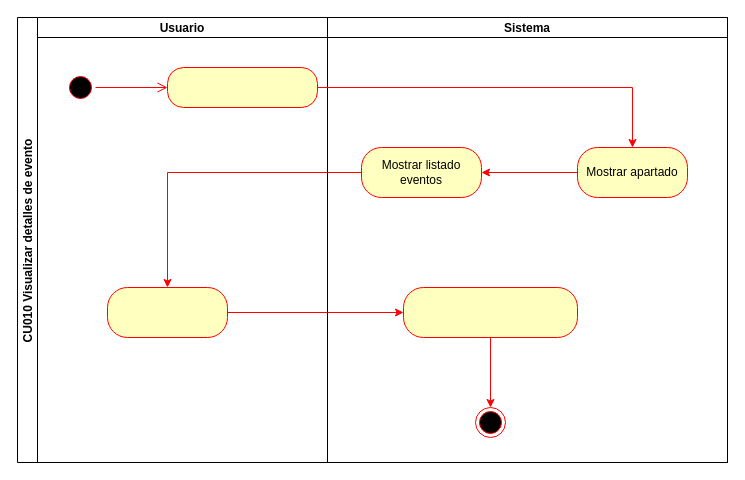
This 745x480 diagram has some shape labels left out. Each missing label, with the centre of its shape:
Pulsa el apartado "Eventos": [242,87]
Pulsar botón "ver evento": [167,312]
Redirigir a detalles de evento: [490,312]
